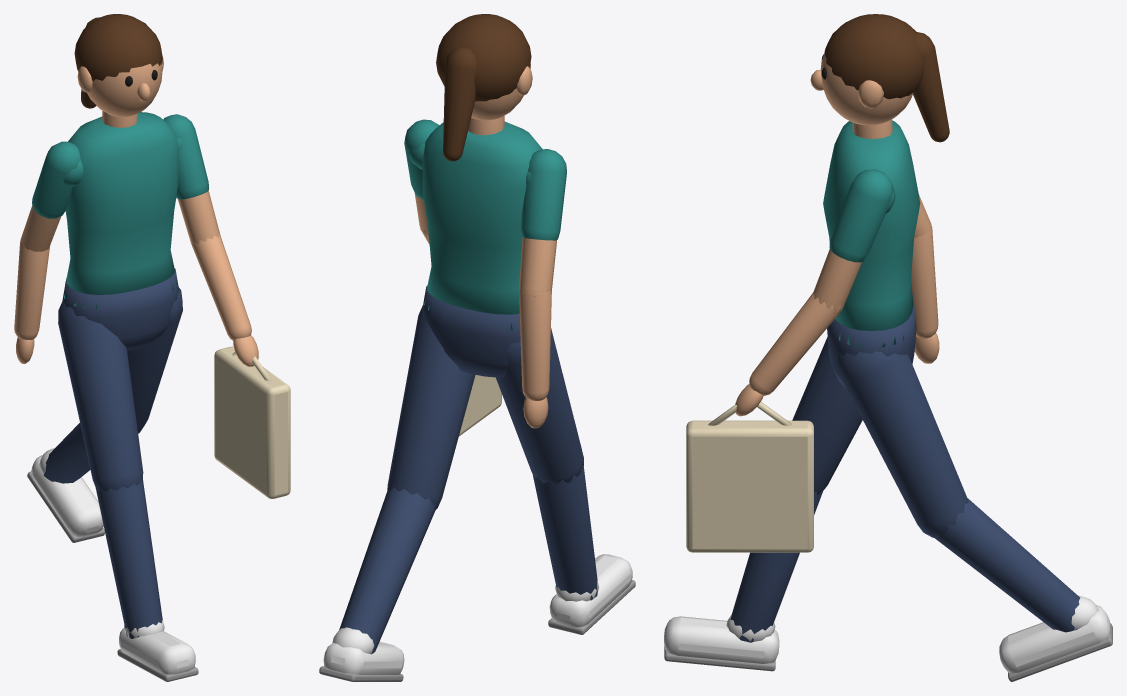
Rendered from walker_teal.fbx.
3 renders of one model, left to right at view 1: azimuth 30°, elevation 25°; view 2: azimuth 150°, elevation 25°; view 3: azimuth 270°, elevation 25°, orthographic. The views are drawn at different scales.
Visible parts, largest first — view 1: walker_teal; view 2: walker_teal; view 3: walker_teal.
Boxes of the visible parts, x1=… form: walker_teal: x1=14, y1=14, x2=290, y2=681; walker_teal: x1=319, y1=14, x2=635, y2=681; walker_teal: x1=664, y1=14, x2=1112, y2=681.
Bounding box in the file's own units: 0.5138 × 1.71 × 1.05.
